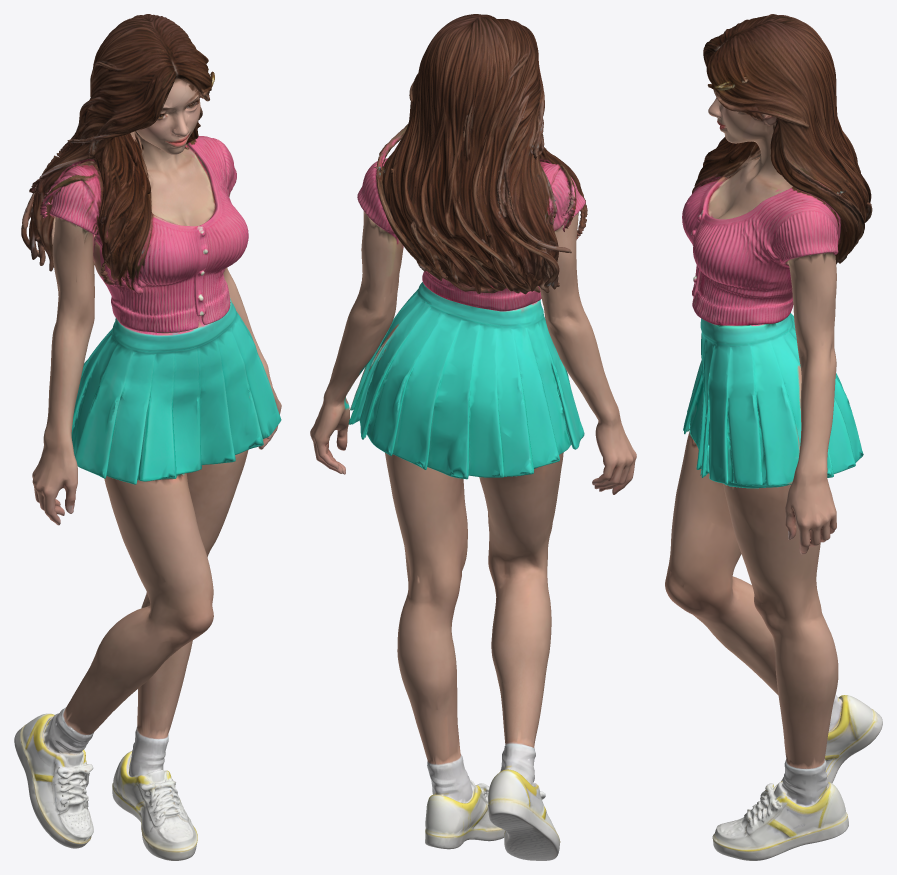
Rendered from female-mobile.glb.
3 renders of one model, left to right at view 1: azimuth 30°, elevation 25°; view 2: azimuth 150°, elevation 25°; view 3: azimuth 270°, elevation 25°, orthographic.
Parts seen in each view (by area): view 1: Dada_female_dopamine_complete_outfit; view 2: Dada_female_dopamine_complete_outfit; view 3: Dada_female_dopamine_complete_outfit.
Boxes of the visible parts, bbox=[...] form: Dada_female_dopamine_complete_outfit: bbox=[14, 14, 281, 860]; Dada_female_dopamine_complete_outfit: bbox=[310, 14, 636, 860]; Dada_female_dopamine_complete_outfit: bbox=[665, 14, 882, 860].
Bounding box in the file's own units: 0.3498 × 0.9783 × 0.2336.
Materials: 1 (1 with a texture image).
